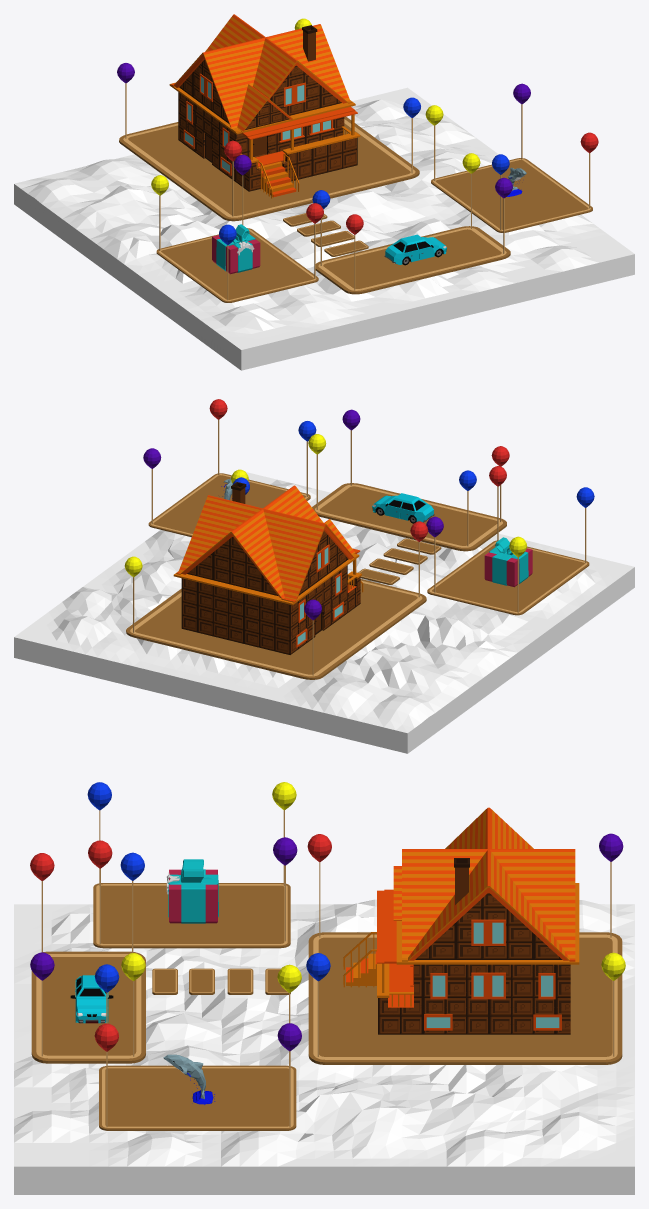
3 renders of one model, top to bottom at view 1: azimuth 30°, elevation 25°; view 2: azimuth 150°, elevation 25°; view 3: azimuth 270°, elevation 25°, orthographic. The views are drawn at different scales.
Parts seen in each view (by area): view 1: Cube.013, Cube, OBJRANDOM_GIANT_PRESENT, VEHICLES_CAR; view 2: Cube.013, Cube, OBJRANDOM_GIANT_PRESENT, VEHICLES_CAR; view 3: Cube.013, Cube, OBJRANDOM_GIANT_PRESENT, VEHICLES_CAR, ANIMAL_DELFIN.
Boxes of the visible parts, x1,y1,x2,y2 form: Cube.013: (14,18,634,370); Cube: (169,14,360,198); OBJRANDOM_GIANT_PRESENT: (212,224,260,274); VEHICLES_CAR: (384,234,446,265); Cube.013: (14,399,634,753); Cube: (173,482,363,654); OBJRANDOM_GIANT_PRESENT: (484,537,532,587); VEHICLES_CAR: (372,493,434,523); Cube.013: (14,782,634,1194); Cube: (343,807,579,1034); OBJRANDOM_GIANT_PRESENT: (166,859,218,923); VEHICLES_CAR: (70,975,113,1023); ANIMAL_DELFIN: (163,1054,215,1104).
Bounding box in the file's own units: 4000 × 1789 × 4000.
Materials: 32 (2 with a texture image).
